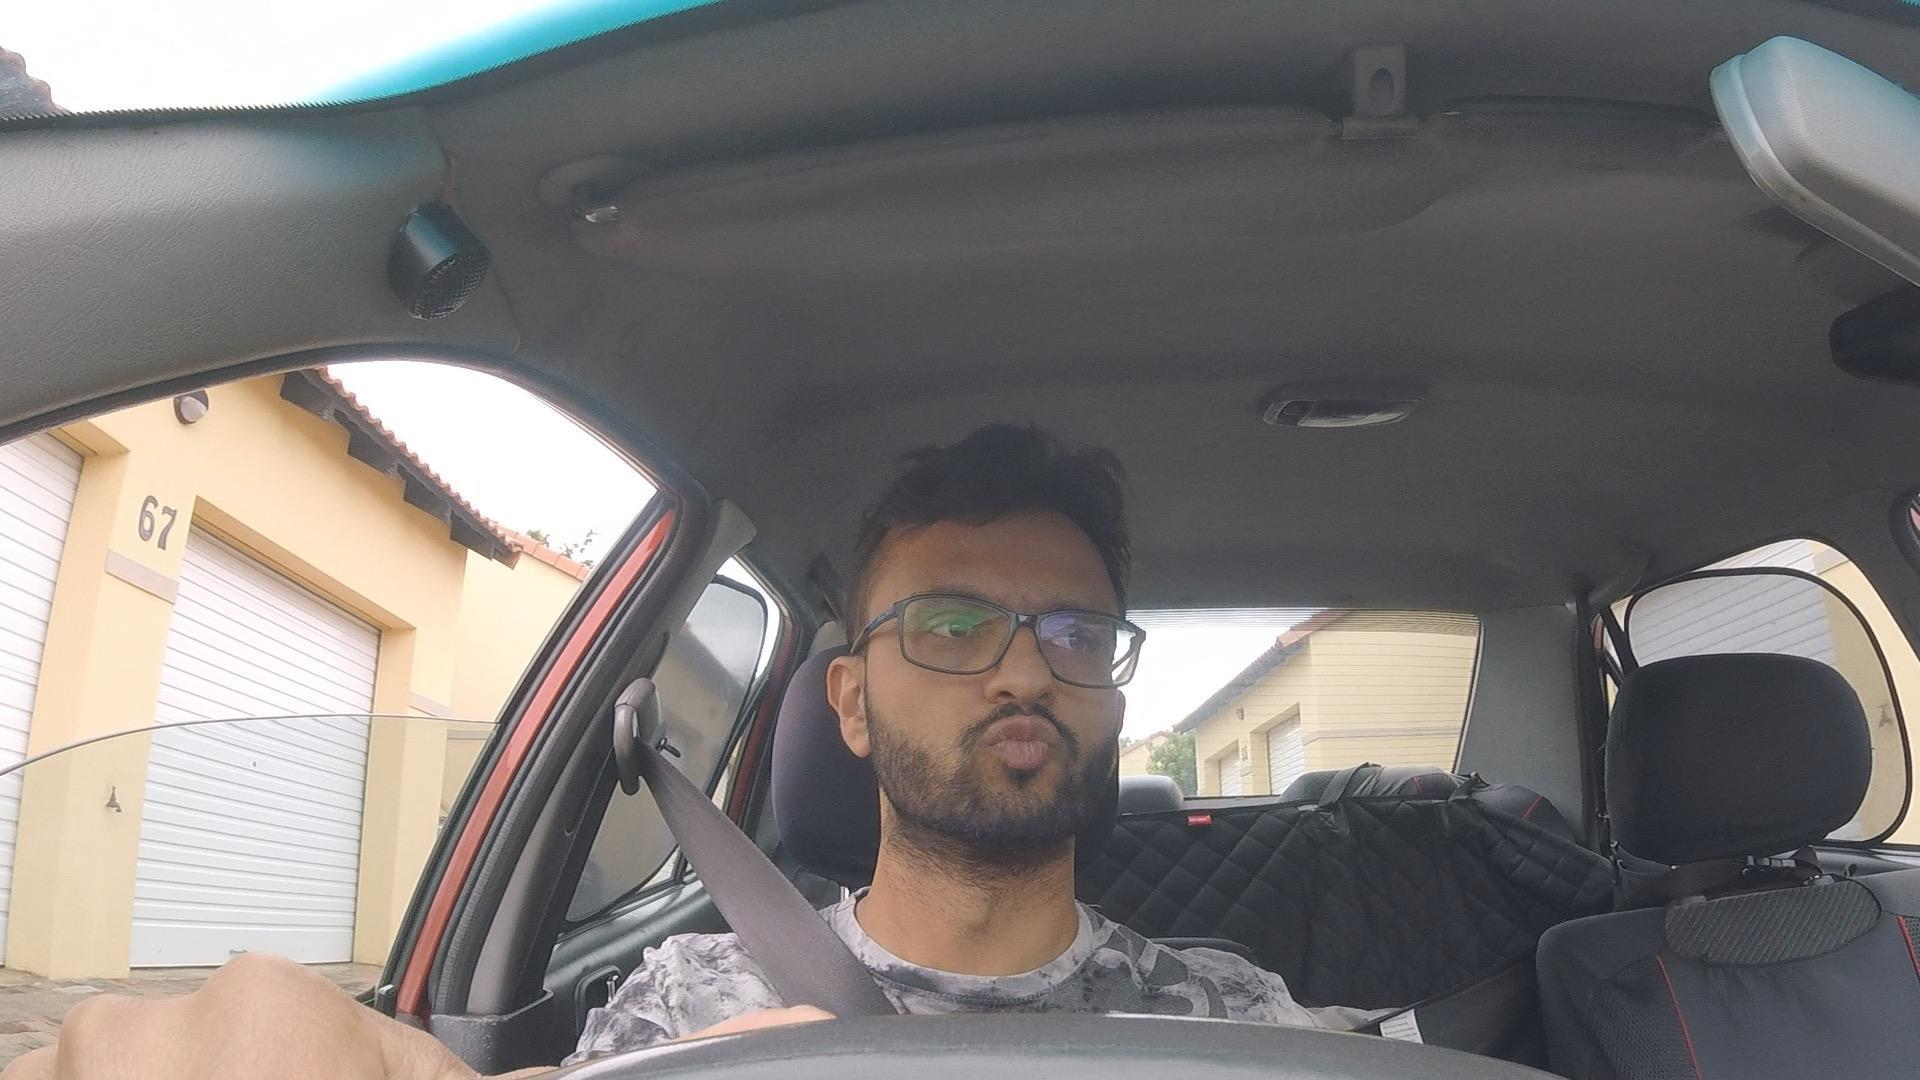SafeDriving: (822, 423, 1147, 851)
